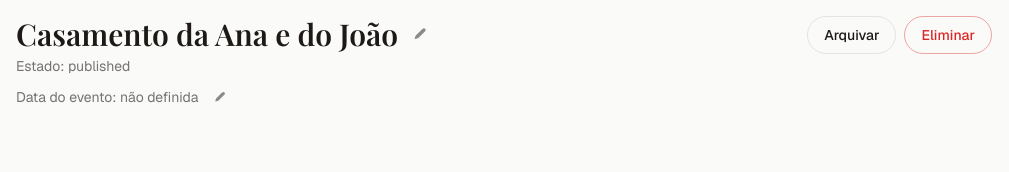
AlbumDetail — editar nome do álbum › não deixa guardar um nome em branco
Check: the heading "Casamento da Ana e do João" is shown, box top-left (16, 16), bottom-right (398, 52)
Click the button named "Editar nome do álbum".
click(420, 34)  # box top-left (406, 20), bottom-right (434, 48)
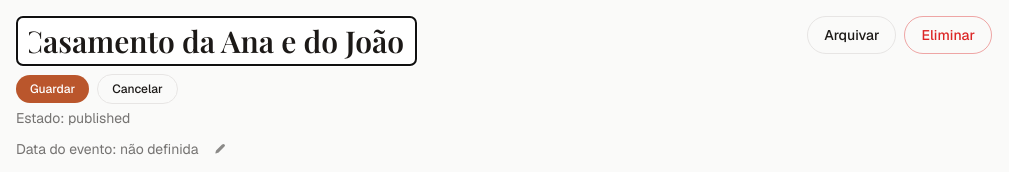
Clear the field named "Nome do álbum" at point(216, 41), box top-left (16, 16), bottom-right (417, 66)
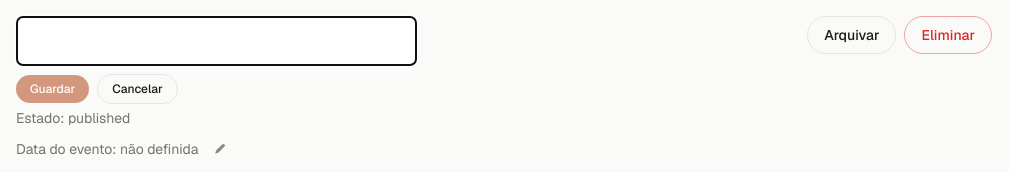
Check: the button "Guardar" is disabled, box top-left (16, 75), bottom-right (89, 103)
